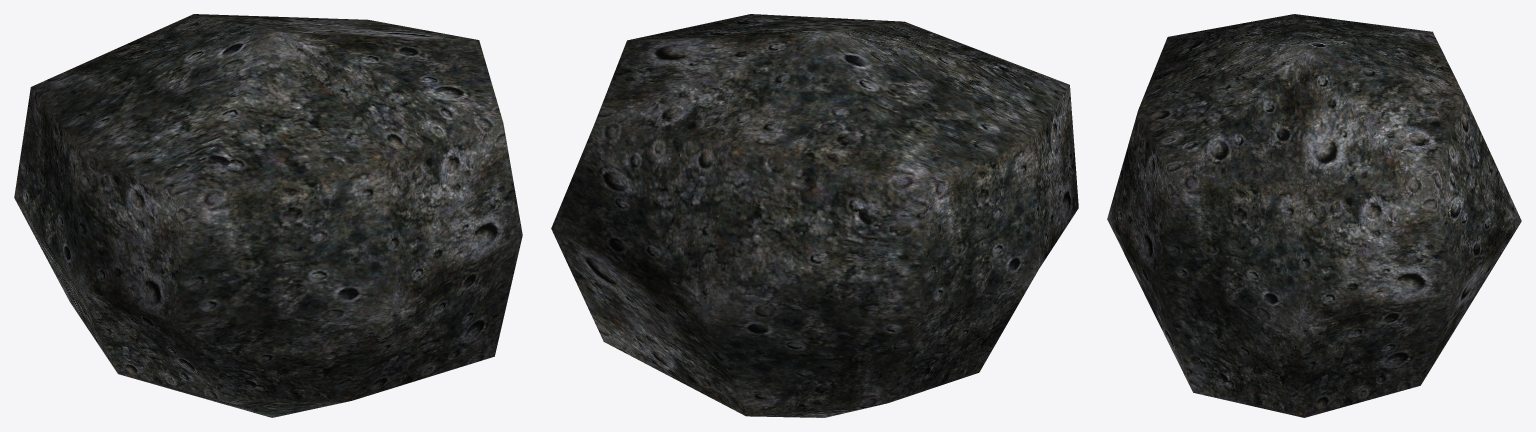
Rendered from asteroid_iron_radial_s01_l1.fbx.
3 views of the same model, side by side, from view 1: azimuth 30°, elevation 25°; view 2: azimuth 150°, elevation 25°; view 3: azimuth 270°, elevation 25° (orthographic). The views are drawn at different scales.
Visible parts, largest first — view 1: mesh_node; view 2: mesh_node; view 3: mesh_node.
Part boxes in pixels (x1,y1,x2,y2): mesh_node: [14, 14, 522, 417]; mesh_node: [551, 14, 1078, 417]; mesh_node: [1107, 14, 1521, 417].
Bounding box in the file's own units: 2.34 × 1.98 × 2.19.
